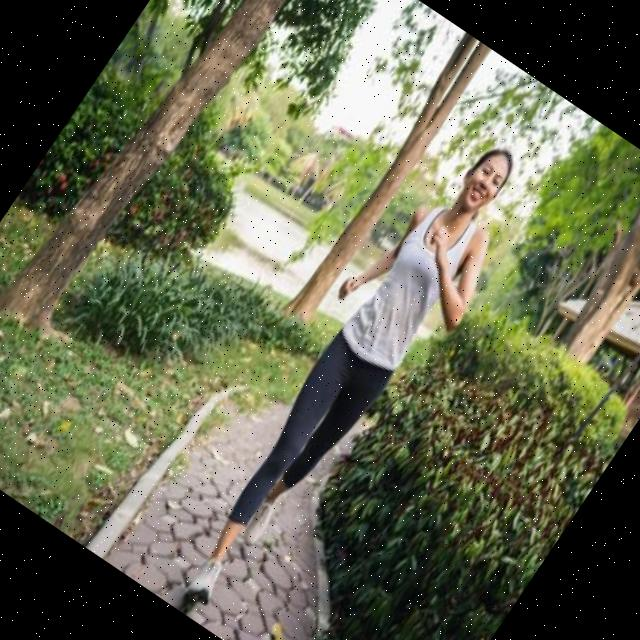Person: (150, 117, 554, 637)
